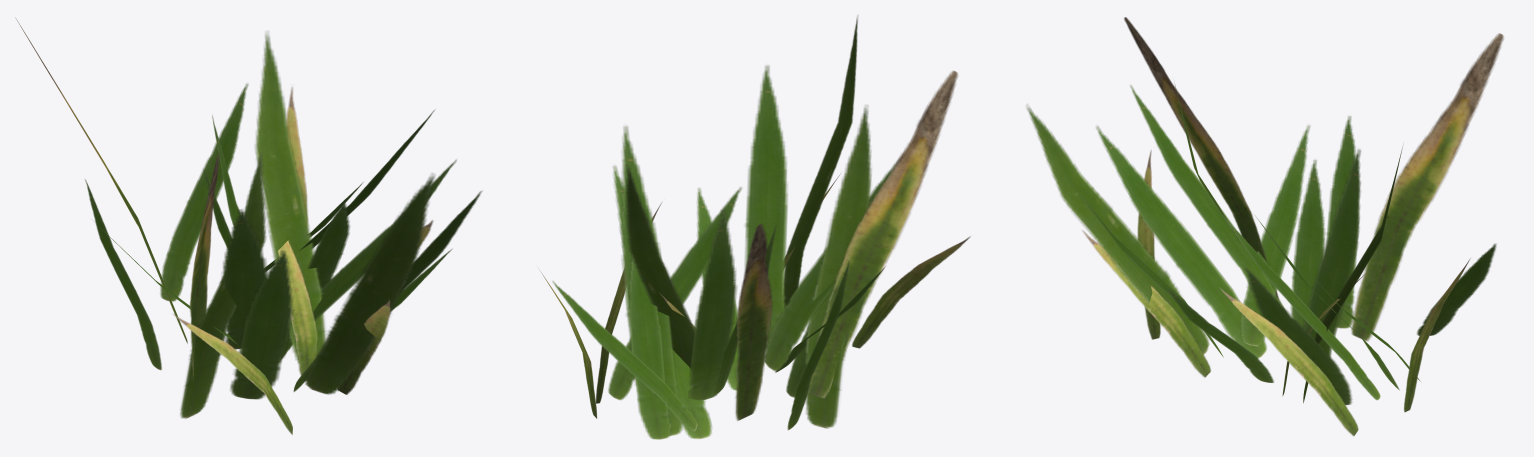
The model's file is grass3.glb.
3 views of the same model, side by side, from view 1: azimuth 30°, elevation 25°; view 2: azimuth 150°, elevation 25°; view 3: azimuth 270°, elevation 25° (orthographic). The views are drawn at different scales.
Parts seen in each view (by area): view 1: grass_varient_3; view 2: grass_varient_3; view 3: grass_varient_3.
Boxes of the visible parts, x1,y1,x2,y2 form: grass_varient_3: (15, 17, 482, 434); grass_varient_3: (539, 15, 970, 439); grass_varient_3: (1026, 17, 1503, 436).
Bounding box in the file's own units: 25.05 × 24.74 × 34.51.
1 material, 1 textured.
